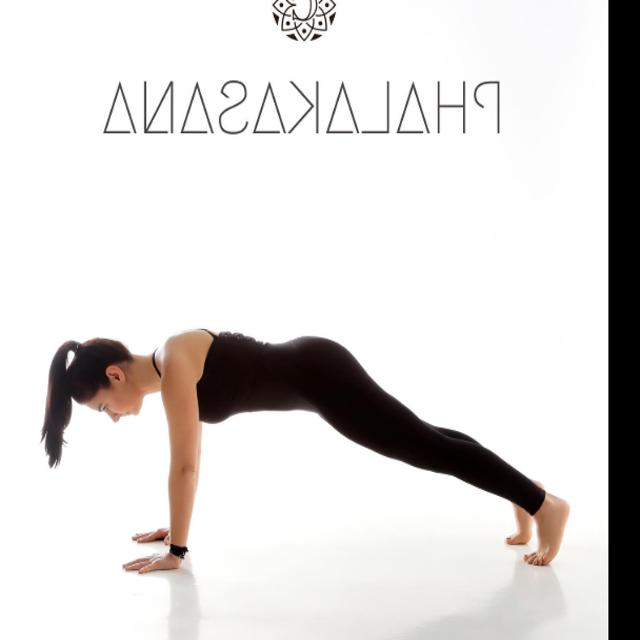Plank_Pose: (42, 319, 575, 584)
